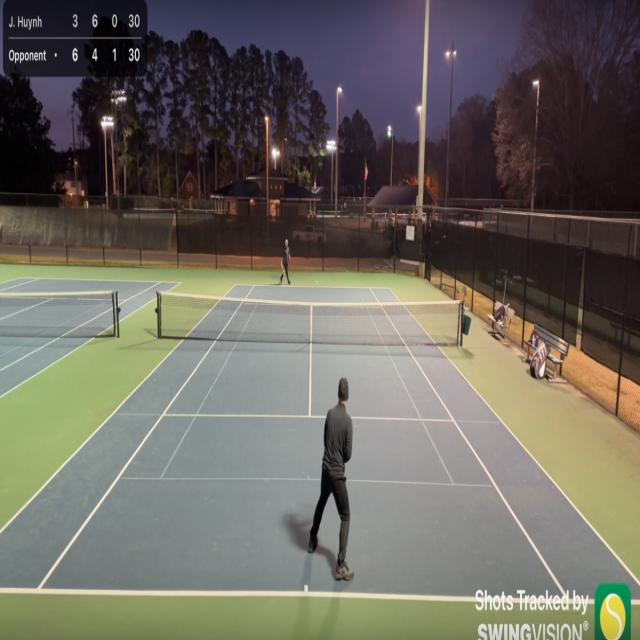ball: (316, 280, 319, 284)
